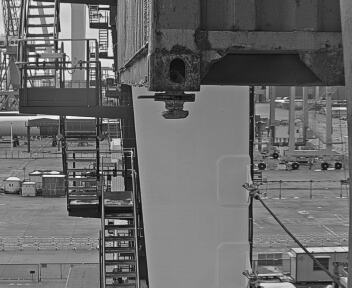twist_lock_1: (147, 83, 200, 127)
